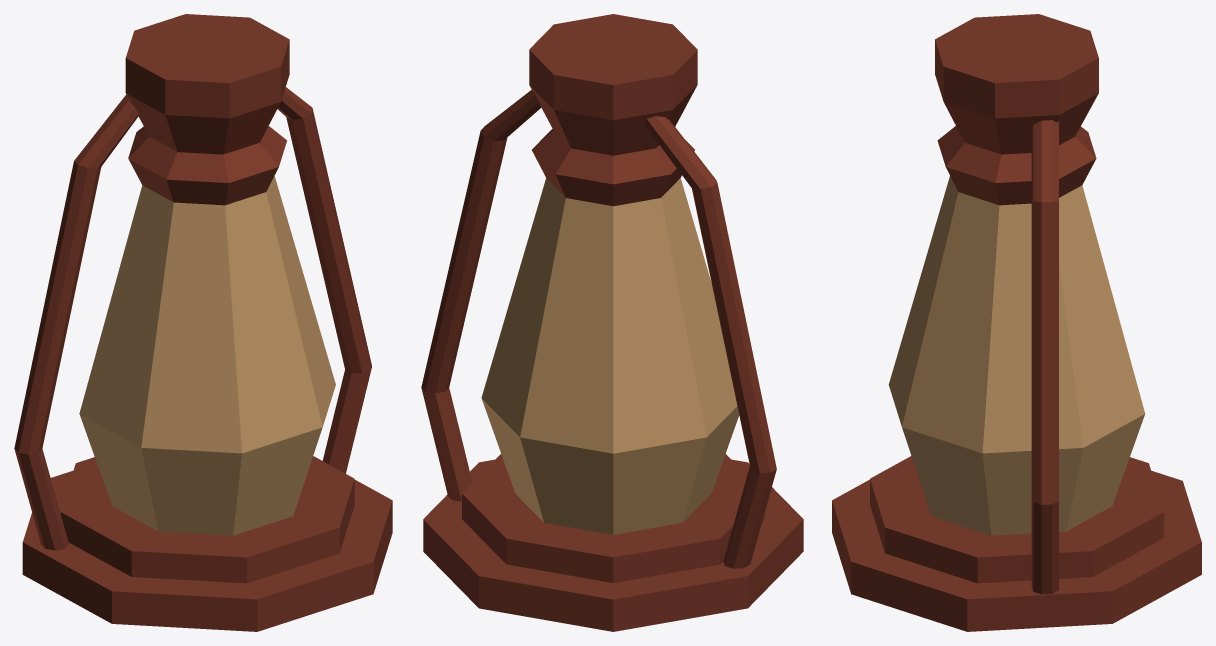
File: Lump_4.fbx
3 renders of one model, left to right at view 1: azimuth 30°, elevation 25°; view 2: azimuth 150°, elevation 25°; view 3: azimuth 270°, elevation 25°, orthographic.
Visible parts, largest first — view 1: Lump_4; view 2: Lump_4; view 3: Lump_4.
Part boxes in pixels (<box>): Lump_4: <box>14,14,392,631</box>; Lump_4: <box>421,14,803,631</box>; Lump_4: <box>832,14,1201,631</box>.
Size of the model in its own units: 27.54 by 24.93 by 37.58.
